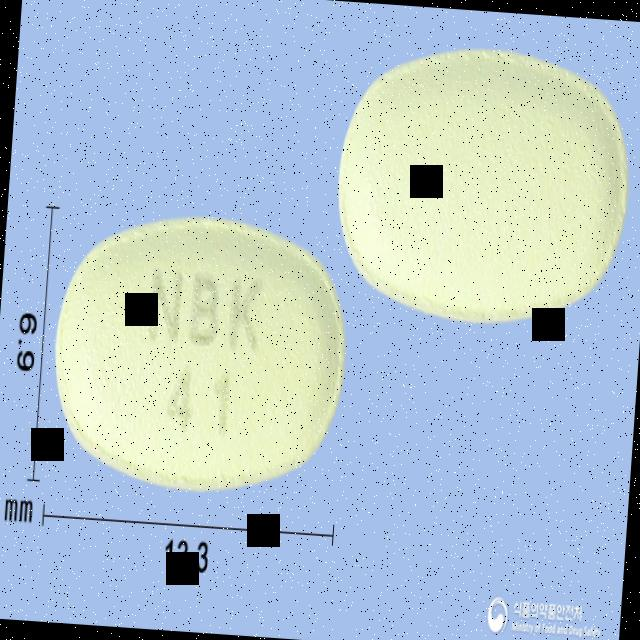Lathrocin: (45, 206, 355, 498)
